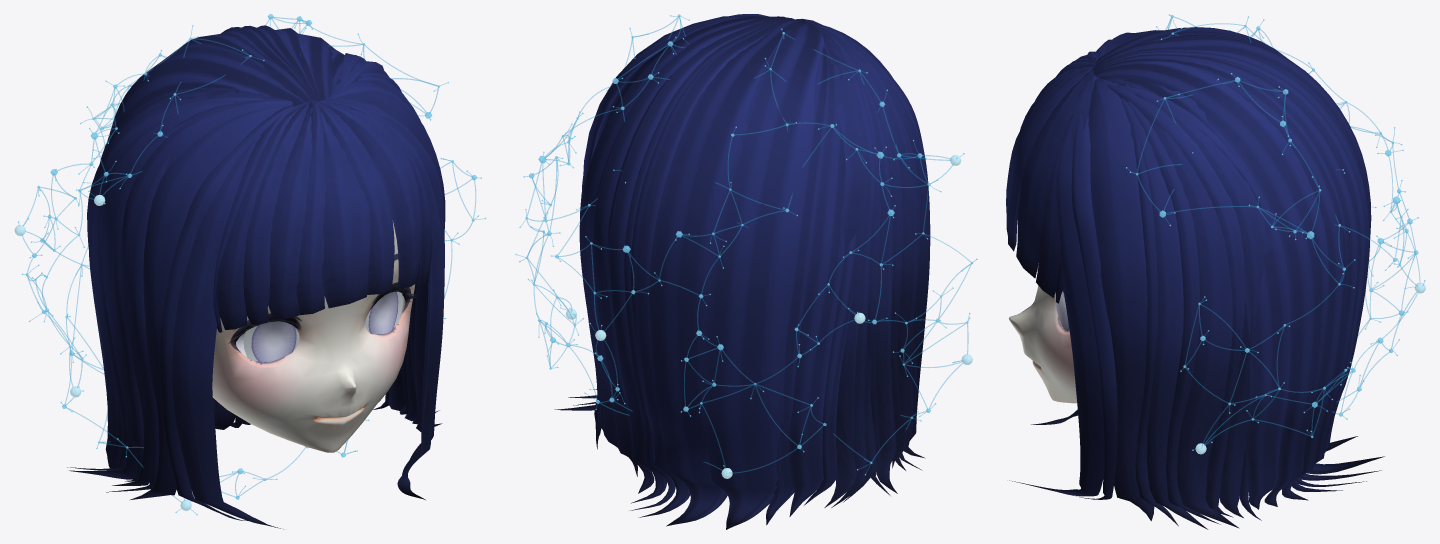
File: imprint-iris.glb
The picture shows the model from 3 angles, left to right: view 1: azimuth 30°, elevation 25°; view 2: azimuth 150°, elevation 25°; view 3: azimuth 270°, elevation 25°; orthographic projection.
Parts seen in each view (by area): view 1: Echo_Hair, Echo_Face, Echo_Synapses, Echo_EyeR, Echo_EyeL, Echo_Neurons; view 2: Echo_Hair, Echo_Synapses, Echo_Neurons, Echo_Hubs; view 3: Echo_Hair, Echo_Synapses, Echo_Face, Echo_Neurons.
Part boxes in pixels (x1,y1,x2,y2): Echo_Hair: (67, 25, 445, 529); Echo_Face: (212, 220, 416, 452); Echo_Synapses: (18, 17, 484, 514); Echo_EyeR: (243, 321, 299, 362); Echo_EyeL: (365, 291, 402, 334); Echo_Neurons: (18, 14, 486, 515); Echo_Hair: (554, 14, 930, 529); Echo_Synapses: (516, 16, 976, 473); Echo_Neurons: (515, 14, 977, 475); Echo_Hubs: (566, 155, 972, 478); Echo_Hair: (1006, 27, 1384, 529); Echo_Synapses: (1127, 15, 1424, 449); Echo_Face: (1009, 263, 1076, 403); Echo_Neurons: (1126, 14, 1425, 450).
Size of the model in its own units: 2.72 by 2.67 by 2.22.
13 materials, 10 textured.
